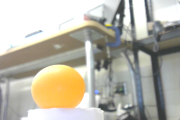PingPongBall: (32, 65, 85, 109)
